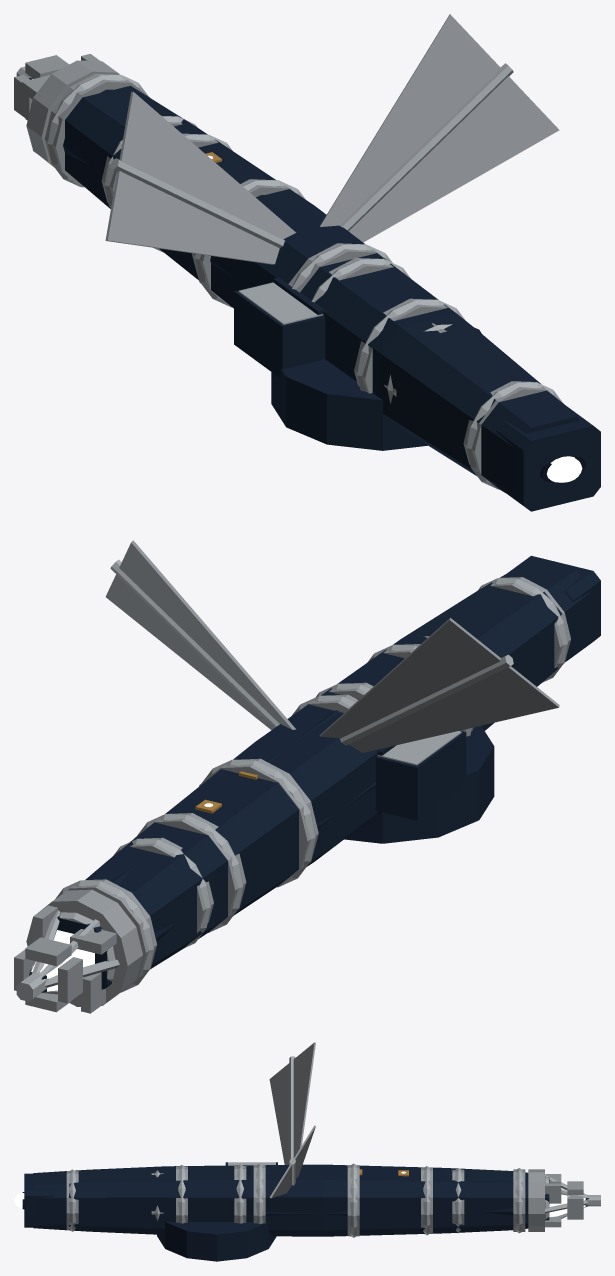
The picture shows the model from 3 angles, top to bottom: view 1: azimuth 30°, elevation 25°; view 2: azimuth 150°, elevation 25°; view 3: azimuth 270°, elevation 25°; orthographic projection. The views are drawn at different scales.
Visible parts, largest first — view 1: RIMWARD_HULL, RIMWARD_ENGINE_GLOW; view 2: RIMWARD_HULL, RIMWARD_EMISSIVE; view 3: RIMWARD_HULL.
Part boxes in pixels (<box>): RIMWARD_HULL: <box>14,14,600,511</box>; RIMWARD_ENGINE_GLOW: <box>547,456,582,482</box>; RIMWARD_HULL: <box>14,540,600,1013</box>; RIMWARD_EMISSIVE: <box>31,803,212,991</box>; RIMWARD_HULL: <box>22,1042,600,1261</box>.
Size of the model in its own units: 3.76 by 2.25 by 7.85.
